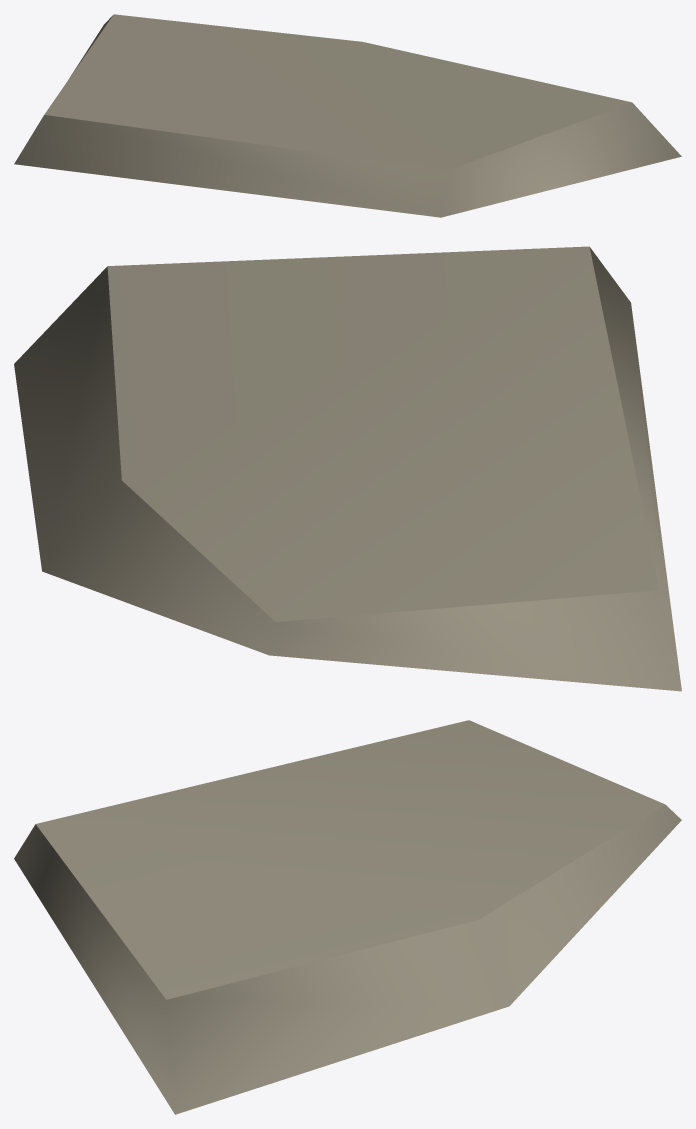
File: Stones_1f.fbx
The picture shows the model from 3 angles, top to bottom: view 1: azimuth 30°, elevation 25°; view 2: azimuth 150°, elevation 25°; view 3: azimuth 270°, elevation 25°; orthographic projection. The views are drawn at different scales.
Parts seen in each view (by area): view 1: Stones_1f; view 2: Stones_1f; view 3: Stones_1f.
Part boxes in pixels (x1,y1,x2,y2): Stones_1f: [14, 14, 681, 217]; Stones_1f: [14, 246, 681, 691]; Stones_1f: [14, 720, 681, 1114].
Bounding box in the file's own units: 43.22 × 7.7 × 38.82.
